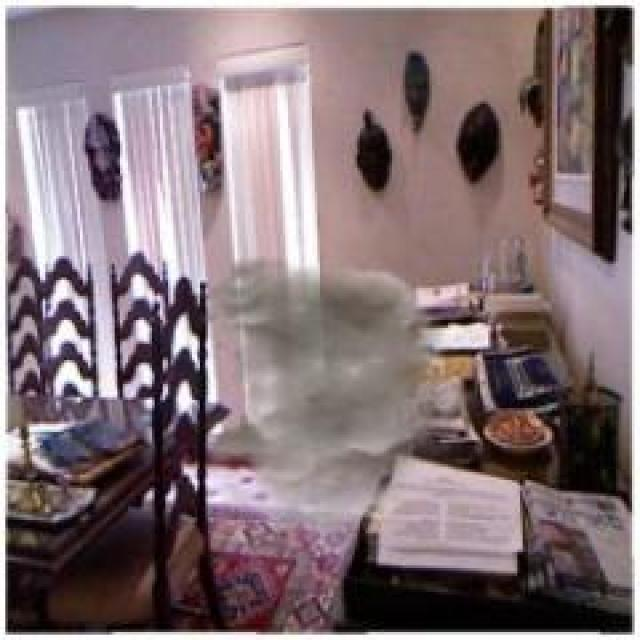smoke: (200, 254, 483, 534)
